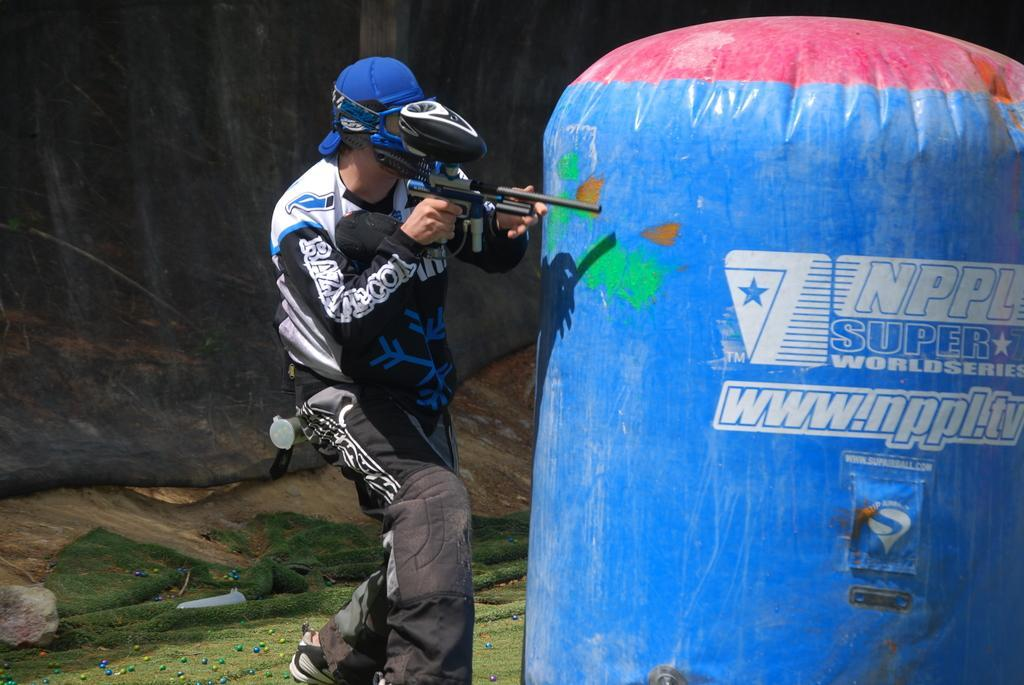gun: (424, 168, 604, 257)
